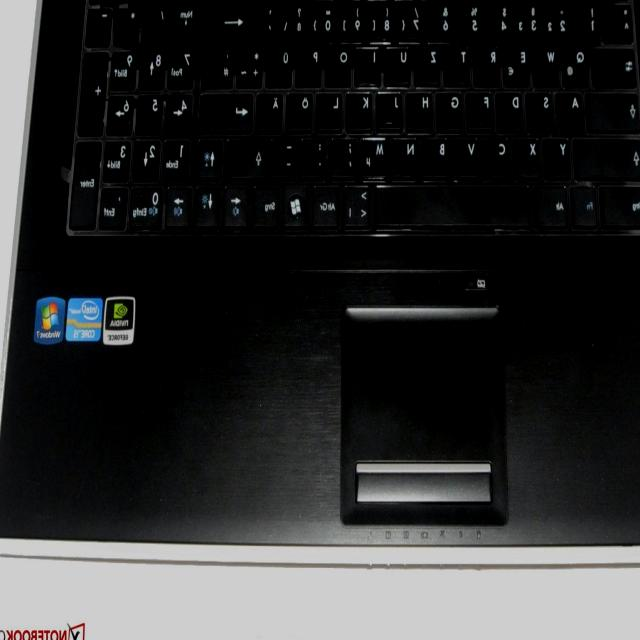0: (312, 0, 338, 37)
1: (576, 0, 602, 38)
2: (546, 0, 574, 38)
3: (518, 0, 544, 37)
4: (488, 0, 514, 38)
5: (459, 0, 485, 37)
6: (429, 0, 455, 37)
7: (400, 0, 426, 37)
8: (370, 0, 396, 39)
9: (340, 0, 366, 38)
a: (559, 88, 587, 130)
accent: (253, 0, 279, 38)
ae: (257, 89, 285, 132)
alt-left: (537, 180, 571, 226)
altgr-right: (314, 180, 343, 226)
b: (424, 133, 452, 178)
c: (485, 133, 513, 177)
caret: (605, 0, 636, 38)
comma: (333, 133, 360, 177)
d: (499, 87, 526, 130)
del: (207, 0, 250, 39)
e: (506, 41, 533, 84)
enter: (202, 88, 256, 130)
f: (469, 87, 496, 129)
g: (438, 86, 466, 130)
h: (408, 87, 436, 130)
hash: (204, 44, 235, 84)
i: (358, 43, 384, 83)
j: (379, 86, 405, 129)
k: (347, 87, 375, 130)
keyboard: (57, 0, 640, 258)
l: (317, 88, 345, 131)
less: (346, 180, 374, 226)
m: (363, 132, 391, 178)
minus: (272, 134, 300, 177)
n: (393, 133, 421, 177)
o: (328, 42, 355, 84)
oe: (288, 88, 315, 131)
p: (298, 42, 324, 84)
plus: (239, 43, 265, 85)
point: (302, 133, 330, 177)
q: (564, 41, 592, 85)
r: (476, 42, 502, 84)
s: (529, 88, 556, 130)
shift-left: (576, 132, 640, 176)
shift-lock: (589, 87, 640, 129)
shift-right: (228, 133, 269, 177)
space: (375, 180, 533, 226)
ss: (282, 0, 308, 37)
strg-left: (600, 183, 640, 229)
strg-right: (255, 181, 283, 226)
t: (447, 41, 473, 83)
tab: (595, 42, 639, 84)
u: (388, 42, 414, 84)
ue: (268, 43, 295, 85)
v: (455, 133, 483, 177)
w: (536, 41, 562, 84)
x: (516, 133, 544, 177)
y: (546, 134, 574, 177)
z: (417, 42, 443, 84)
